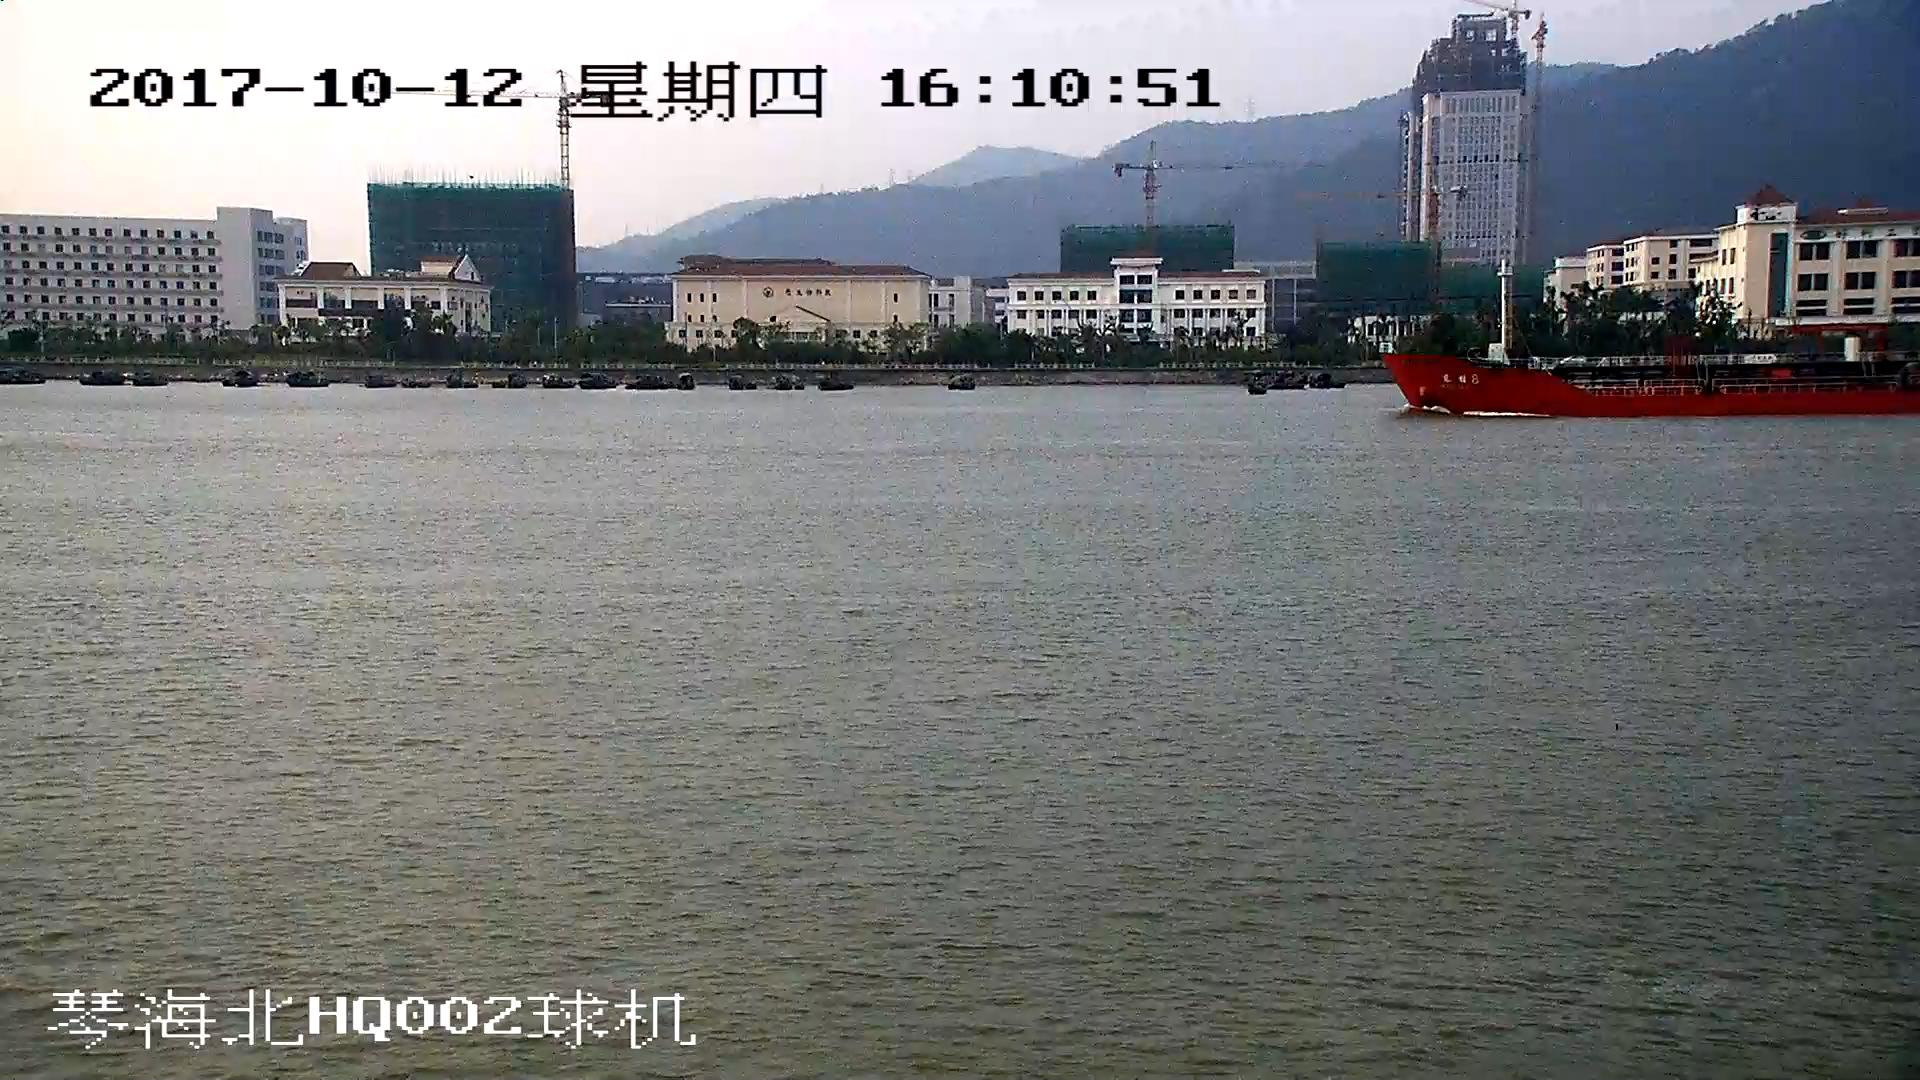general cargo ship: (1380, 269, 1920, 422)
